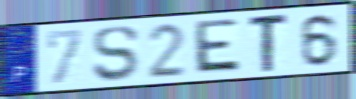2: (146, 21, 188, 80)
6: (300, 12, 340, 68)
7: (45, 28, 83, 87)
E: (192, 17, 243, 75)
S: (91, 24, 140, 84)
T: (247, 11, 290, 75)
